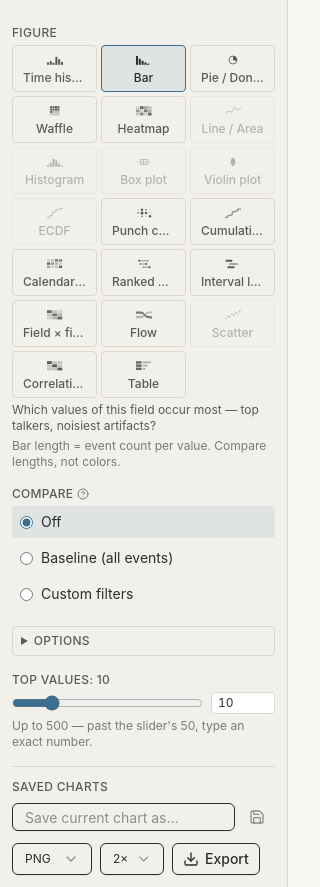
Test: Top-values exact-value box › spends one request on a multi-digit entry, not one per digit
(page scrolled)
Check: the text "Top values: 10" is shown, box x1=12 y1=672 x2=110 y2=687
Step 1. Replace the text in the number field named "top values (exact)" with "5" → (243, 703), box x1=211 y1=692 x2=275 y2=714
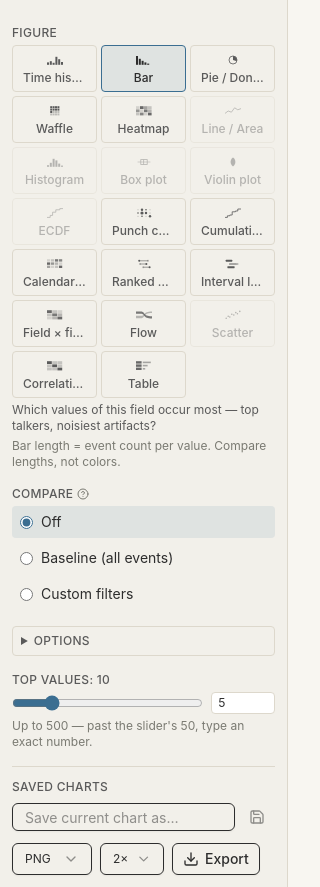
Step 2. Replace the text in the number field named "top values (exact)" with "50" → (243, 703), box x1=211 y1=692 x2=275 y2=714
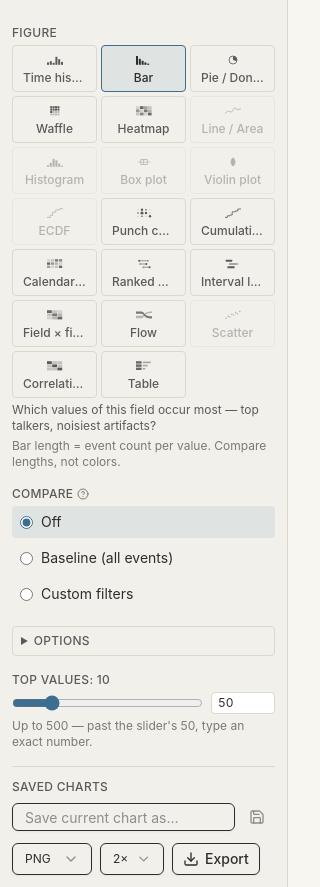
Step 3. Replace the text in the number field named "top values (exact)" with "500" → (243, 703), box x1=211 y1=692 x2=275 y2=714
Wait 500 ms
(page scrolled)
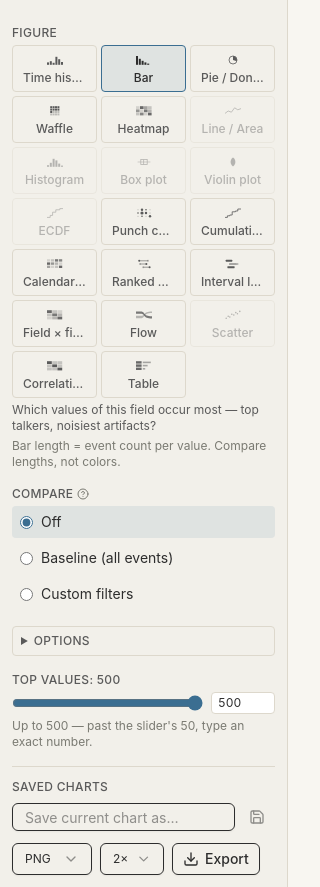
Check: the text "Top values: 500" is shown, box x1=12 y1=672 x2=120 y2=687
